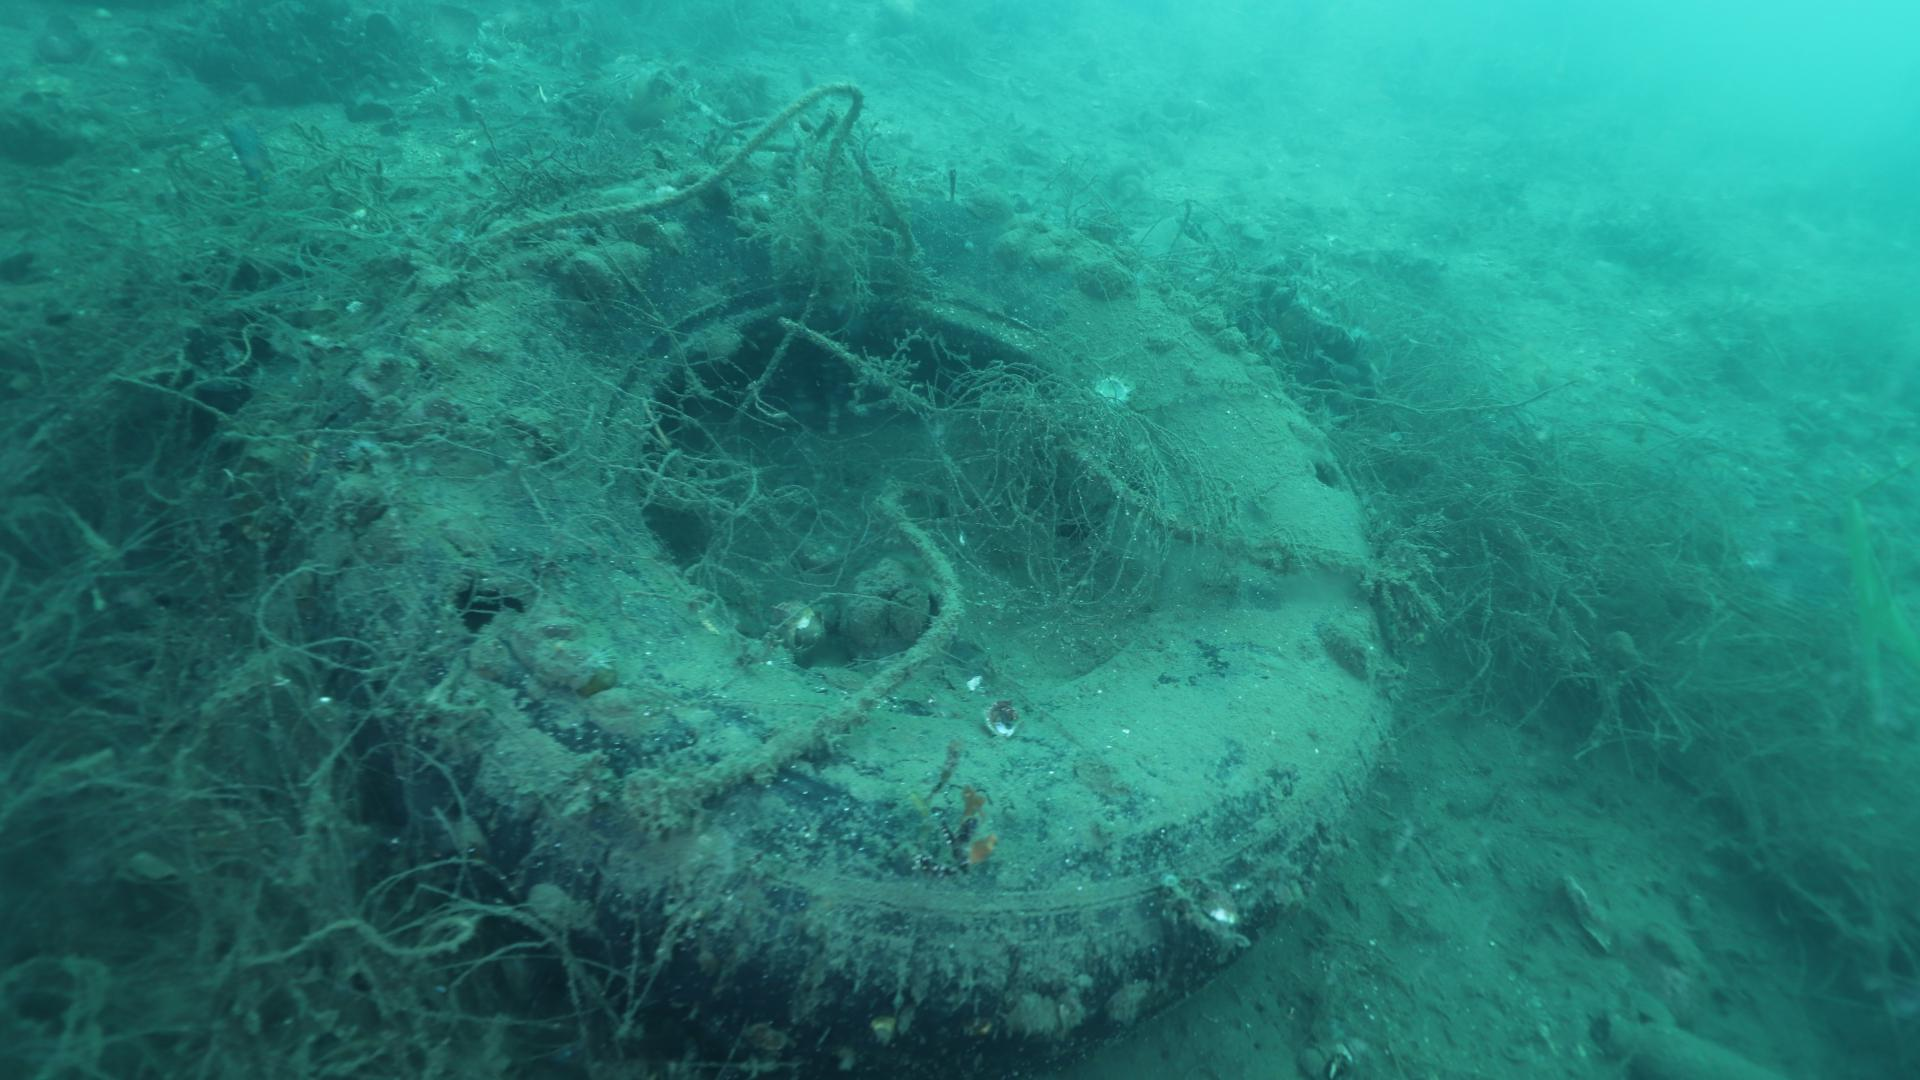rope: (771, 313, 1299, 571), (484, 80, 865, 429), (632, 498, 963, 829)
tire: (303, 156, 1404, 1021)
